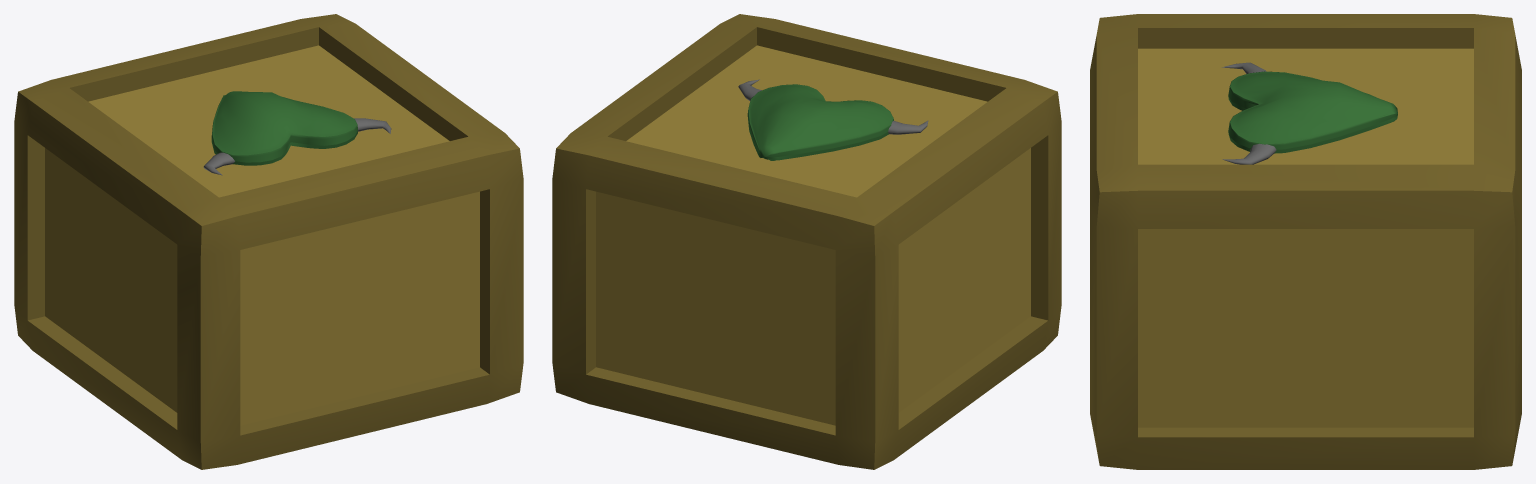
File: dragon heart box.fbx
The picture shows the model from 3 angles, left to right: view 1: azimuth 30°, elevation 25°; view 2: azimuth 150°, elevation 25°; view 3: azimuth 270°, elevation 25°; orthographic projection. The views are drawn at different scales.
Visible parts, largest first — view 1: polySurface1; view 2: polySurface1; view 3: polySurface1.
Part boxes in pixels (<box>): polySurface1: <box>14,14,523,469</box>; polySurface1: <box>552,14,1061,469</box>; polySurface1: <box>1090,14,1521,469</box>.
Bounding box in the file's own units: 7.82 × 6.01 × 7.82.
